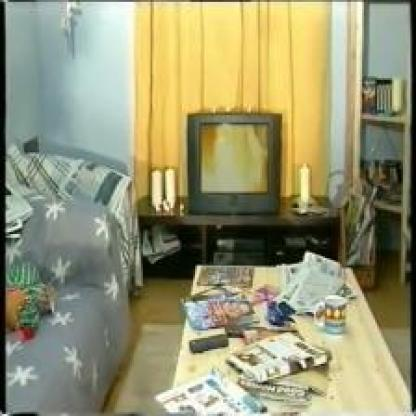other: (153, 13, 312, 94)
